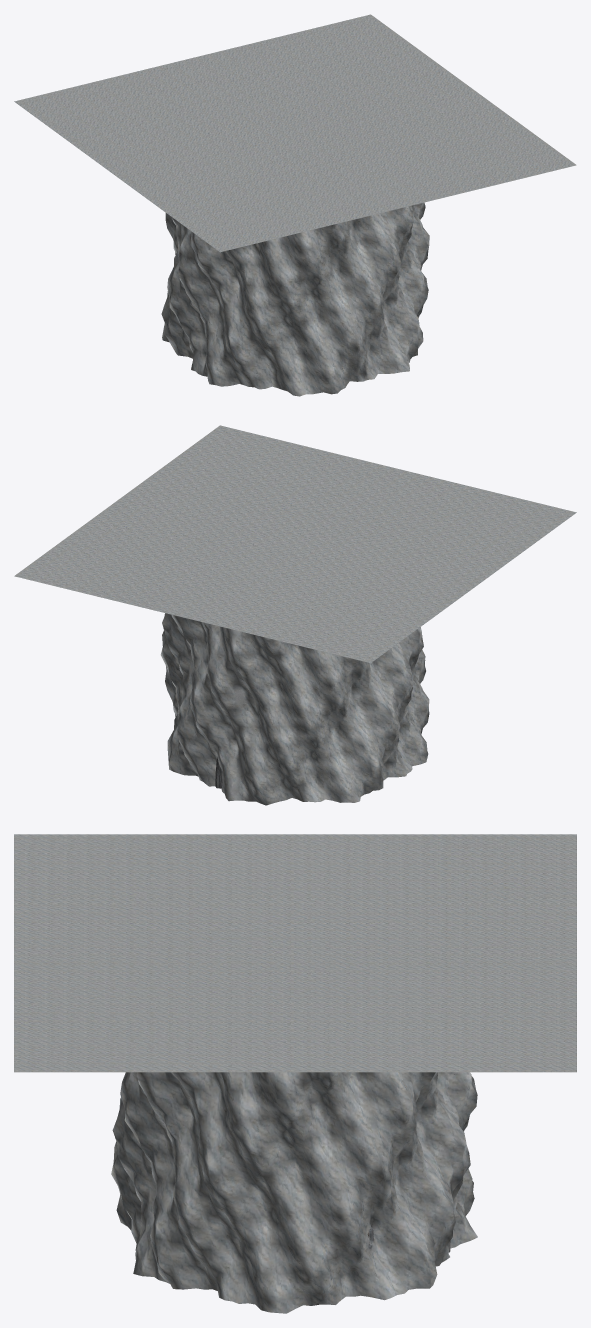
Rendered from room.glb.
The picture shows the model from 3 angles, top to bottom: view 1: azimuth 30°, elevation 25°; view 2: azimuth 150°, elevation 25°; view 3: azimuth 270°, elevation 25°; orthographic projection. The views are drawn at different scales.
Parts seen in each view (by area): view 1: STREAM-PATH; view 2: STREAM-PATH; view 3: STREAM-PATH.
Boxes of the visible parts, <box> form: STREAM-PATH: <box>14,14,576,396</box>; STREAM-PATH: <box>14,425,576,805</box>; STREAM-PATH: <box>14,834,576,1313</box>.
Bounding box in the file's own units: 95.2 × 53 × 95.2.
Materials: 1 (1 with a texture image).
